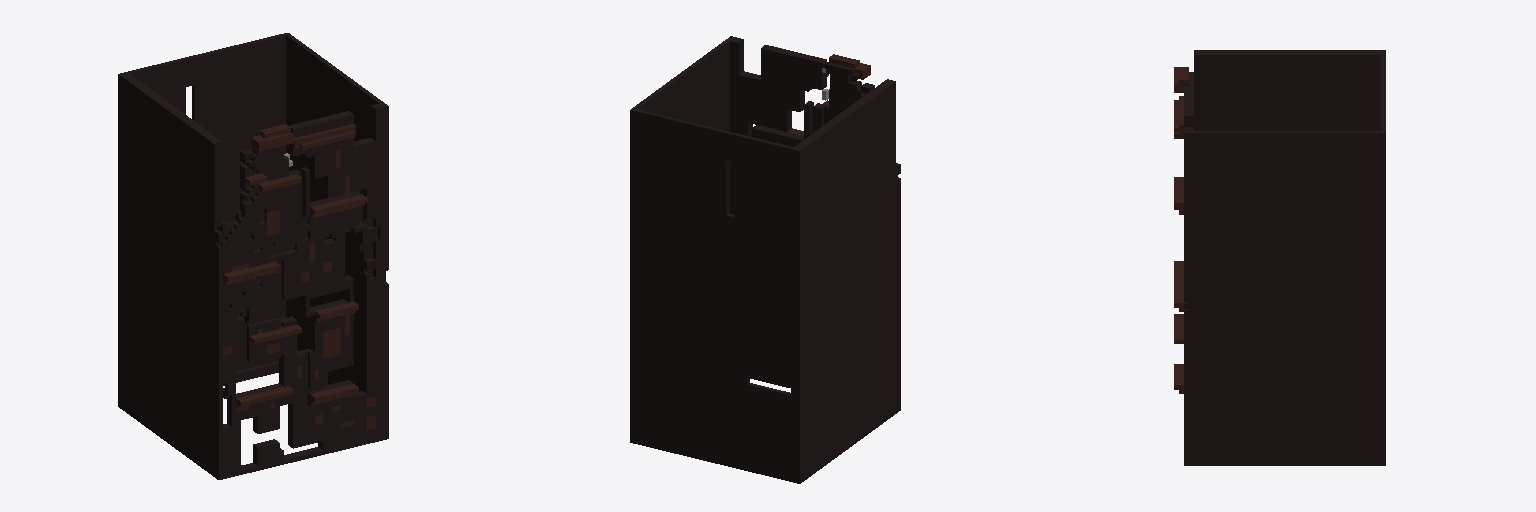
The picture shows the model from 3 angles: view 1: azimuth 30°, elevation 25°; view 2: azimuth 150°, elevation 25°; view 3: azimuth 270°, elevation 25°; orthographic projection.
Visible parts, largest first — view 1: object 1; view 2: object 1; view 3: object 1.
Boxes of the visible parts, box(x1,y1,x2,y2) form: object 1: box(118, 33, 388, 479); object 1: box(630, 36, 900, 483); object 1: box(1174, 50, 1385, 465).
Bounding box in the file's own units: 3.9 × 7.4 × 4.2.
Materials: 1 (1 with a texture image).